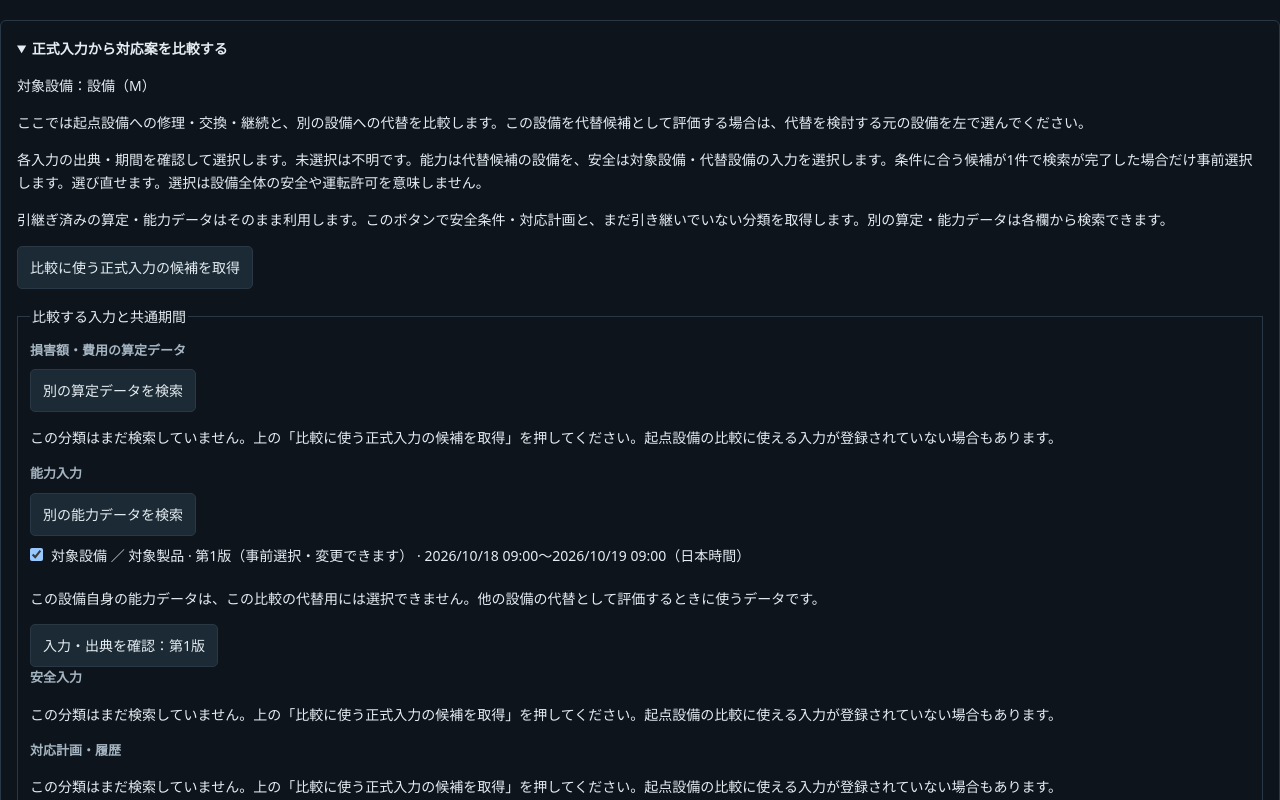
Test: never offers the root equipment's own capacity as an alternate
The width and height of the screenshot is (1280, 800).
Click the checkbox at (36, 554), box [30, 548, 43, 561]
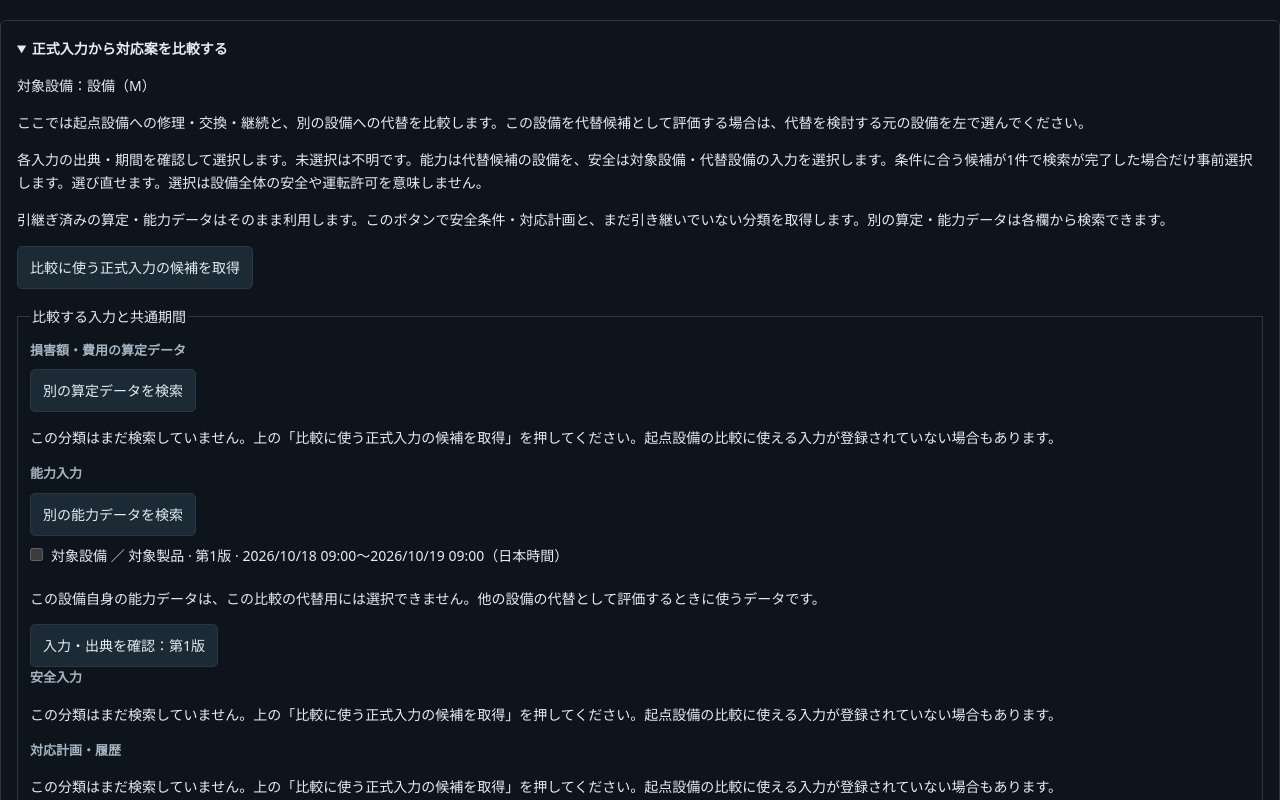
Now the checkbox is not checked, box [30, 548, 43, 561]
Now the checkbox is disabled, box [30, 548, 43, 561]
